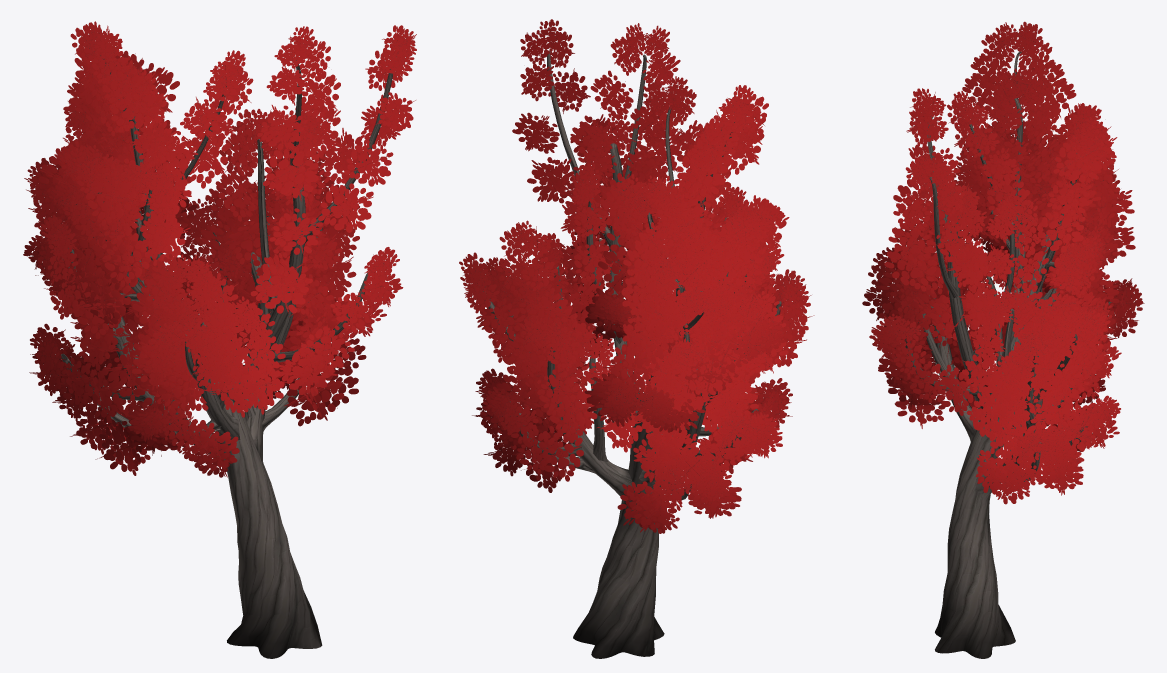
Rendered from TwistedTree_2.glb.
3 views of the same model, side by side, from view 1: azimuth 30°, elevation 25°; view 2: azimuth 150°, elevation 25°; view 3: azimuth 270°, elevation 25° (orthographic). The views are drawn at different scales.
Visible parts, largest first — view 1: TwistedTree_2; view 2: TwistedTree_2; view 3: TwistedTree_2.
Boxes of the visible parts, x1,y1,x2,y2 form: TwistedTree_2: (23,21,416,658); TwistedTree_2: (459,19,814,658); TwistedTree_2: (862,21,1144,658).
Size of the model in its own units: 10.56 by 18.95 by 9.2.
2 materials, 2 textured.
